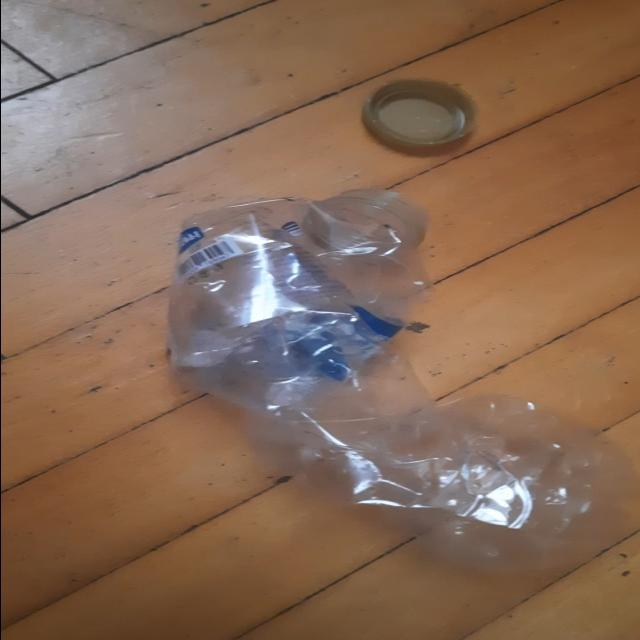Plastic: (166, 192, 636, 568)
